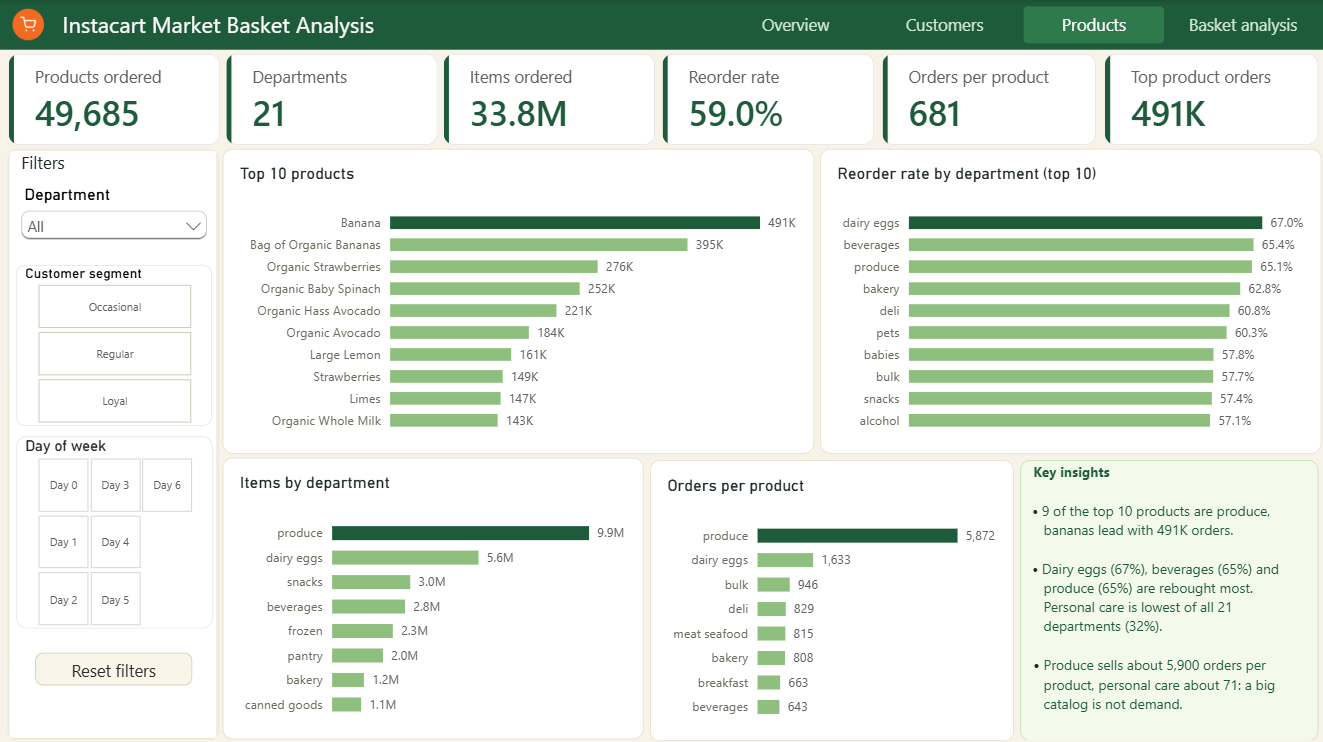

Layout of this report page (visuals, bound fields, positions):
{"tool":"powerbi","page":{"name":"Products","canvas":[1280,720],"ordinal":2},"visuals":[{"type":"shape","box":[0,0,1280,48],"z":0},{"type":"pageNavigator","box":[700,6,568,36],"z":1000},{"type":"textbox","box":[60,8,422.3,30],"z":2000},{"type":"cardVisual","fields":{"Data":["fact_orders.Products Ordered"]},"box":[8.4,51.9,204,88.1],"z":3000},{"type":"cardVisual","fields":{"Data":["dim_department.Total Department"]},"box":[218,52,204,88.1],"z":4000},{"type":"cardVisual","fields":{"Data":["fact_orders.Items Ordered"]},"box":[428,51.9,204,88.1],"z":5000},{"type":"cardVisual","fields":{"Data":["fact_orders.Reorder Rate"]},"box":[639,51.9,204,88.1],"z":6000},{"type":"cardVisual","fields":{"Data":["fact_products.Orders per Product"]},"box":[852,51.9,206.3,88.1],"z":7000},{"type":"cardVisual","fields":{"Data":["fact_orders.Top Product Orders"]},"box":[1066,51.9,206,88.1],"z":8000},{"type":"shape","box":[7.2,143.6,203.9,571],"z":9000},{"type":"textbox","box":[20,146,120,24],"z":10000},{"type":"slicer","fields":{"Values":["dim_department.department"]},"box":[16.2,178.8,188.8,63.8],"z":11000},{"type":"slicer","fields":{"Values":["dim_segment.Segment Short"]},"box":[16.2,256.2,188.8,155],"z":12000},{"type":"slicer","fields":{"Values":["dim_day.day_label"]},"box":[15.7,421,189.4,185.8],"z":13000},{"type":"actionButton","box":[33.8,629.8,152,32],"z":14000},{"type":"clusteredBarChart","title":"Top 10 products","fields":{"Category":["fact_products.product_name"],"Y":["Sum(fact_products.orders)","select"]},"box":[215,143.9,571,294],"z":15000},{"type":"clusteredBarChart","title":"Reorder rate by department (top 10)","fields":{"Category":["dim_department.department"],"Y":["fact_orders.Reorder Rate"]},"box":[791.3,143.7,484,294],"z":16000},{"type":"clusteredBarChart","title":"Items by department","fields":{"Category":["dim_department.department"],"Y":["fact_orders.Items Ordered"]},"box":[215,442,406,272],"z":17000},{"type":"clusteredBarChart","title":"Orders per product","fields":{"Category":["fact_products.department"],"Y":["Avg(fact_products.orders)"]},"box":[626.9,443.6,351,272],"z":18000},{"type":"textbox","box":[984.5,444.2,288,271],"z":19000},{"type":"image","box":[12,9,30,30],"z":20000}]}

Visuals, with their boxes in screenshot pixels (x1, y1, x2, y2), scaled from the page's 1280x720 canvas onto the 1323x742 screenshot:
shape: bbox(0, 0, 1322, 49)
pageNavigator: bbox(724, 6, 1311, 43)
textbox: bbox(62, 8, 499, 39)
cardVisual - fact_orders.Products Ordered: bbox(9, 53, 220, 144)
cardVisual - dim_department.Total Department: bbox(225, 54, 436, 144)
cardVisual - fact_orders.Items Ordered: bbox(442, 53, 653, 144)
cardVisual - fact_orders.Reorder Rate: bbox(660, 53, 871, 144)
cardVisual - fact_products.Orders per Product: bbox(881, 53, 1094, 144)
cardVisual - fact_orders.Top Product Orders: bbox(1102, 53, 1315, 144)
shape: bbox(7, 148, 218, 736)
textbox: bbox(21, 150, 145, 175)
slicer - dim_department.department: bbox(17, 184, 212, 250)
slicer - dim_segment.Segment Short: bbox(17, 264, 212, 424)
slicer - dim_day.day_label: bbox(16, 434, 212, 625)
actionButton: bbox(35, 649, 192, 682)
"Top 10 products" clusteredBarChart: bbox(222, 148, 812, 451)
"Reorder rate by department (top 10)" clusteredBarChart: bbox(818, 148, 1318, 451)
"Items by department" clusteredBarChart: bbox(222, 456, 642, 736)
"Orders per product" clusteredBarChart: bbox(648, 457, 1011, 737)
textbox: bbox(1018, 458, 1315, 737)
image: bbox(12, 9, 43, 40)
